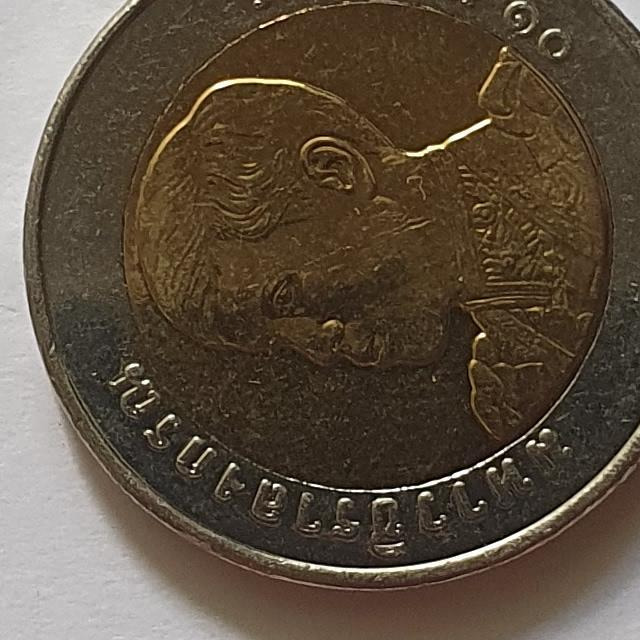10 Bath: (17, 1, 640, 603)
